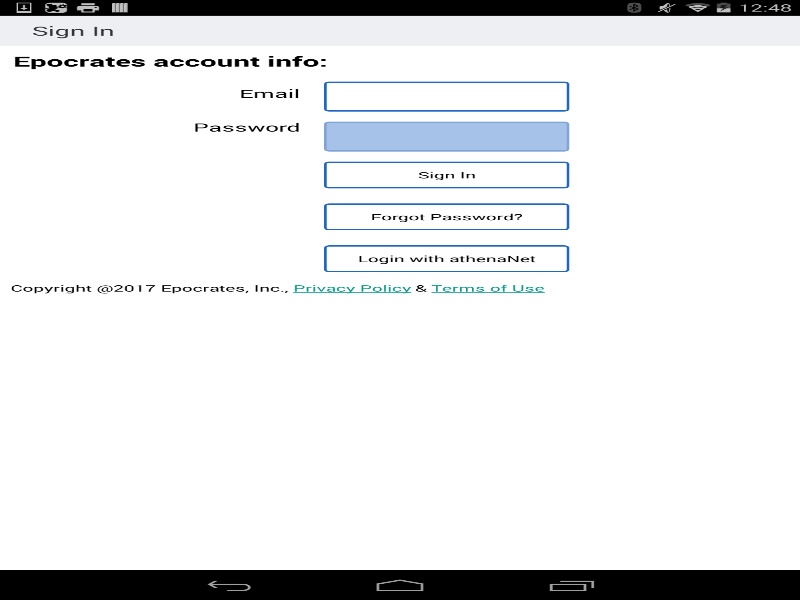Button: (324, 161, 569, 188), (324, 203, 569, 230), (324, 245, 569, 272)
Input: (324, 81, 569, 111), (324, 121, 569, 151)
